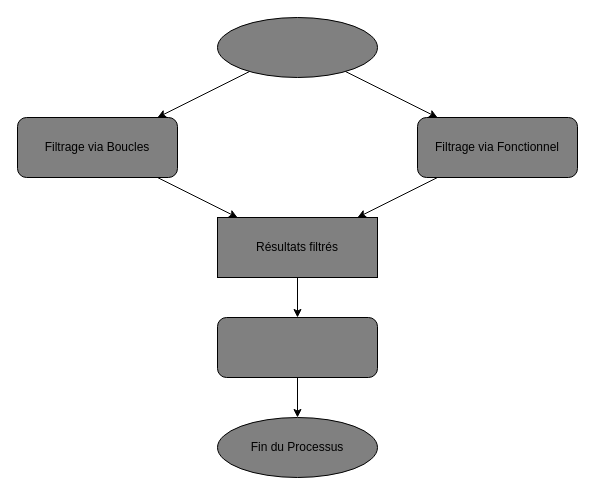
The diagram is 595 pixels wide and 495 high, and some of its shapes have lost their labels. The shapes that lost their labels are listed below. From the top down, each one's centre as x and y in pixels, then its label:
(x=297, y=47): Début de la recherche
(x=297, y=347): Affichage UI
